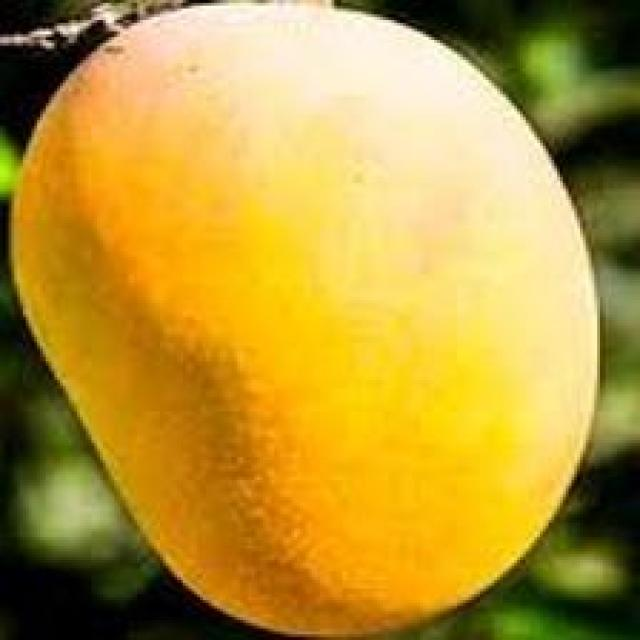Good_Mango: (9, 0, 603, 640)
